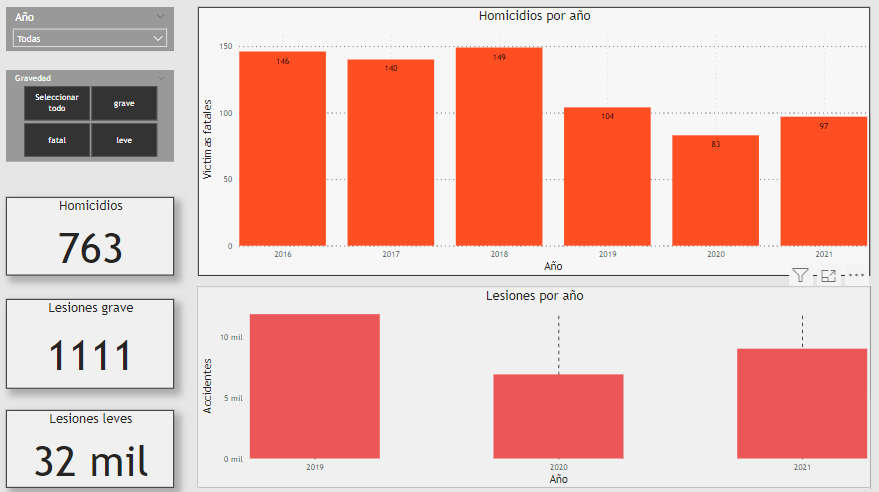

This screenshot's page, from the dashboard's own definition file:
{"tool":"powerbi","page":{"name":"Analisis accidente","canvas":[1280,720],"ordinal":1},"visuals":[{"type":"columnChart","title":"Victimas fatales vs año","fields":{"Category":["siniestros.fecha.Variación.Jerarquía de fechas.Año"],"Y":["CountNonNull(siniestros.gravedad)"],"Series":["siniestros.gravedad"]},"box":[288,16,960,384],"z":0},{"type":"lineChart","title":"Cantidad de accidentes vs años","fields":{"Y":["siniestros.AccidentesPorAño"],"Category":["siniestros.fecha.Variación.Jerarquía de fechas.Año"]},"box":[288,416,960,288],"z":1000},{"type":"slicer","title":"AÑO","fields":{"Values":["siniestros.fecha.Variación.Jerarquía de fechas.Año"]},"box":[16,48,240,64],"z":2000},{"type":"slicer","fields":{"Values":["siniestros.gravedad"]},"box":[16,112,240,80],"z":3000},{"type":"actionButton","box":[0,0,100,40],"z":4000},{"type":"card","title":"Victimas fatales","fields":{"Values":["Sum(siniestros.nro_victimas)"]},"box":[16,272,240,112],"z":5000},{"type":"card","title":"Lesionados grave","fields":{"Values":["Sum(siniestros.id_victima)"]},"box":[16,416,240,128],"z":6000},{"type":"card","title":"Lesionados Leves","fields":{"Values":["Sum(siniestros.id_victima)"]},"box":[16,576,240,112],"z":7000}]}

Visuals, with their boxes in screenshot pixels (x1, y1, x2, y2), scaled from the page's 1280x720 canvas onto the 879x492 screenshot:
"Victimas fatales vs año" columnChart: 198:11:857:273
"Cantidad de accidentes vs años" lineChart: 198:284:857:481
"AÑO" slicer: 11:33:176:77
slicer - siniestros.gravedad: 11:77:176:131
actionButton: 0:0:69:27
"Victimas fatales" card: 11:186:176:262
"Lesionados grave" card: 11:284:176:372
"Lesionados Leves" card: 11:394:176:470
